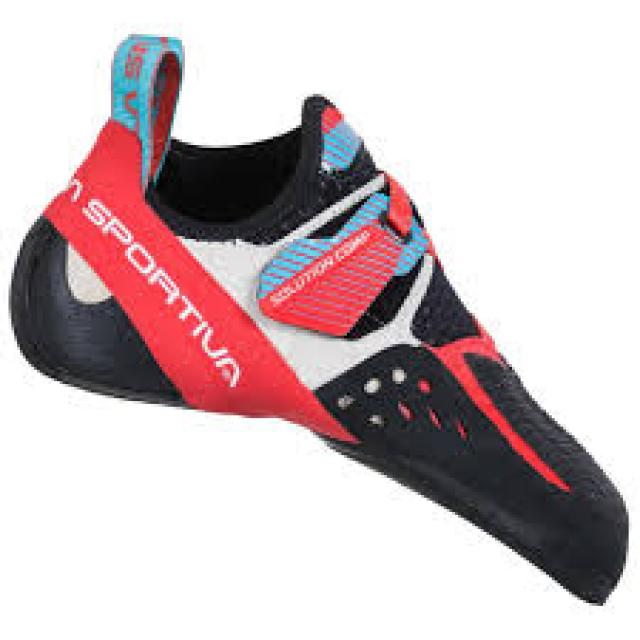climbing-shoes: (11, 33, 632, 606)
